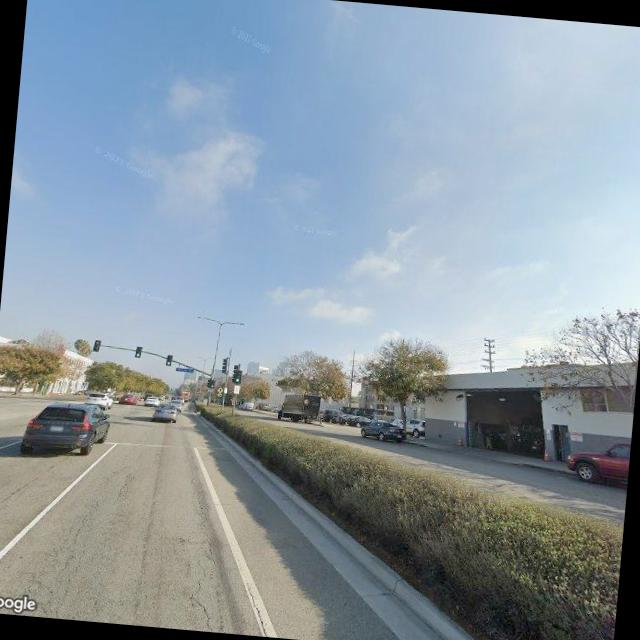crack: (170, 492, 228, 630)
pothole: (236, 580, 272, 636)
